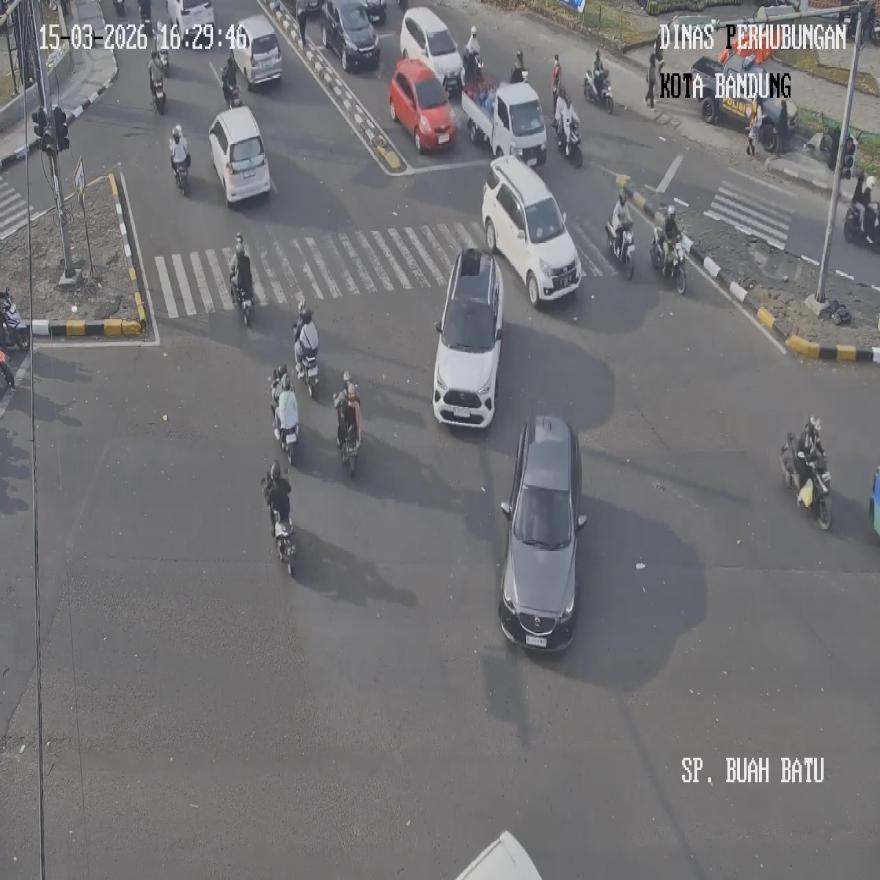Motor: (499, 415, 587, 652), (481, 154, 582, 304), (432, 248, 503, 428), (462, 74, 547, 168), (208, 106, 271, 206), (389, 58, 456, 150), (399, 5, 462, 95), (322, 0, 380, 71), (232, 15, 282, 89)
Truk: (780, 436, 830, 530), (651, 232, 686, 295), (843, 200, 880, 249), (0, 292, 30, 351), (606, 217, 634, 278), (274, 391, 297, 463), (553, 108, 581, 166), (273, 506, 295, 573), (295, 341, 319, 398), (584, 67, 613, 114), (231, 270, 253, 325), (462, 46, 484, 87), (173, 149, 190, 194), (221, 74, 241, 108), (0, 348, 15, 390), (150, 77, 165, 114), (137, 0, 152, 33), (509, 66, 528, 84), (113, 0, 125, 16)
